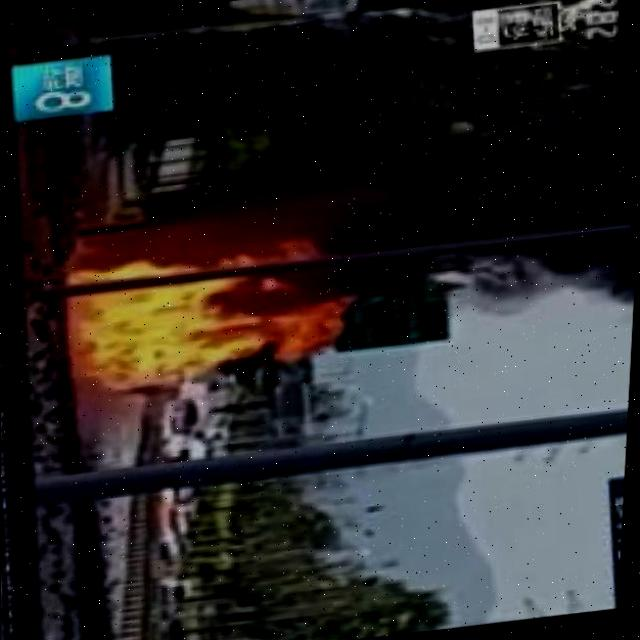fire: (53, 228, 355, 396)
